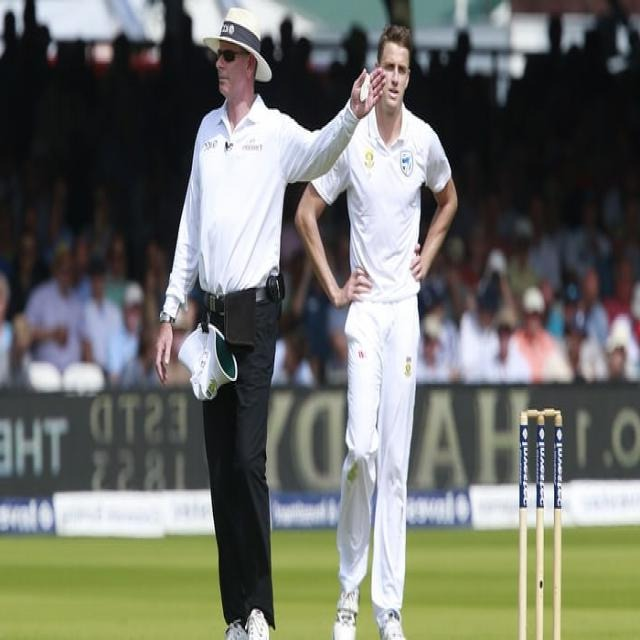No_Ball: (148, 6, 388, 640)
